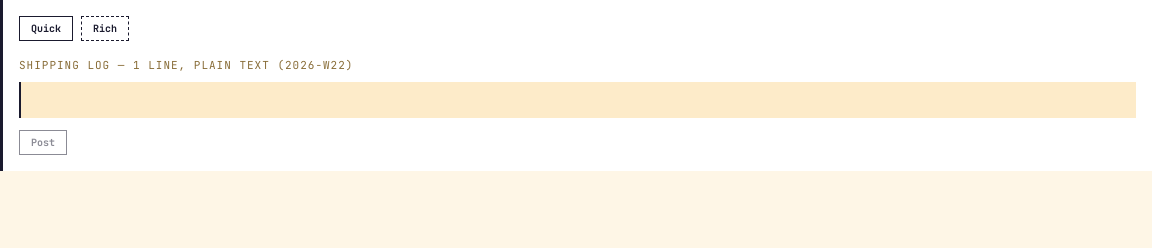
Test: StatusEditor mode toggle (v0.10.0 Phase C) › switches to Rich mode when Rich Pill is clicked
The image size is (1152, 248).
Click the button "Rich". click: (105, 28)
box: 81,16 -> 129,41
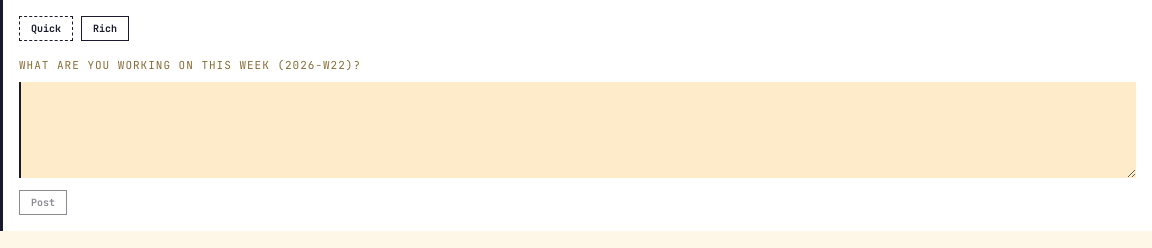
expect the text box labelled "What are you working on this week (2026-W22)?" is shown: met, box 19,82 -> 1136,178
